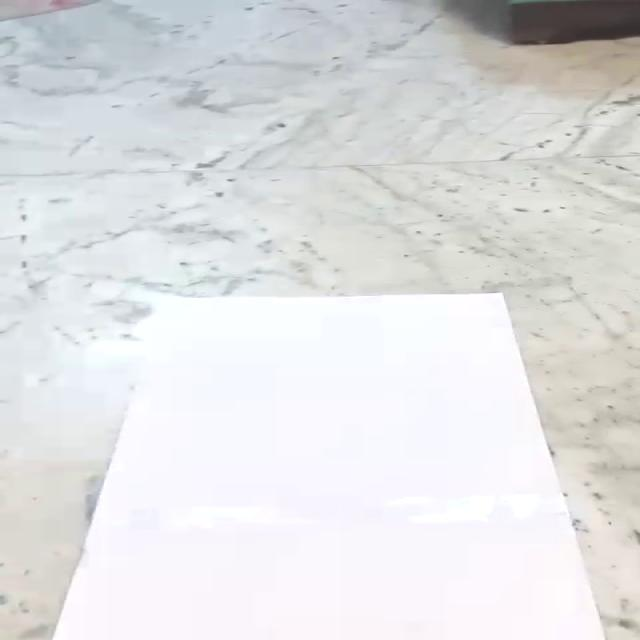road: (51, 294, 607, 640)
